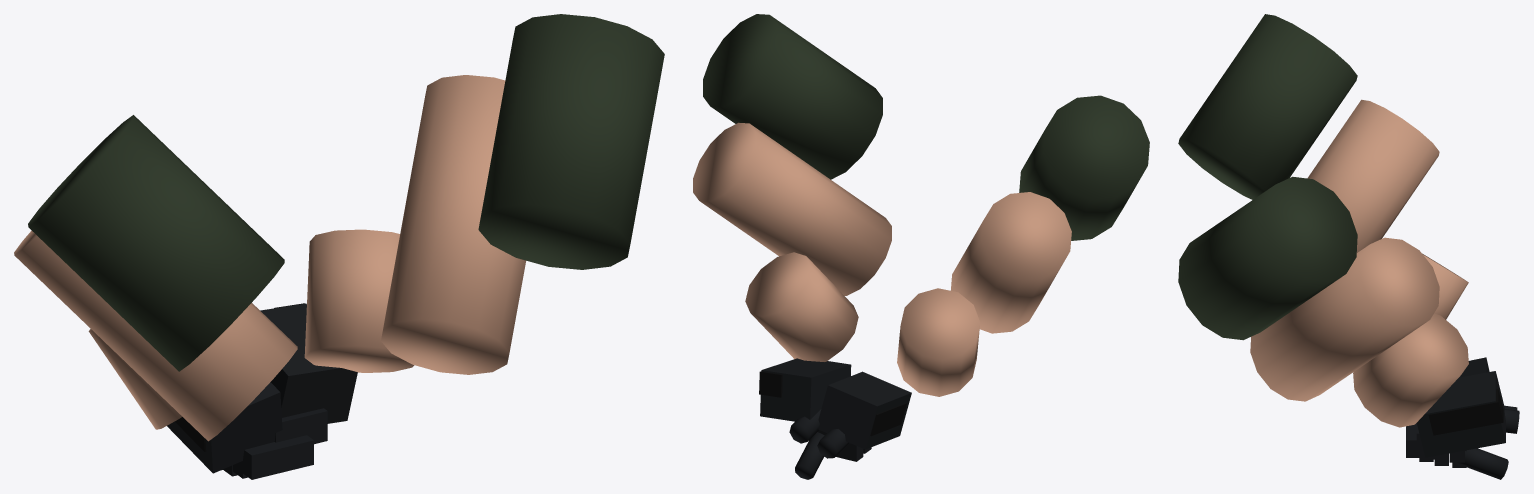
File: fps_arms.obj
The picture shows the model from 3 angles, left to right: view 1: azimuth 30°, elevation 25°; view 2: azimuth 150°, elevation 25°; view 3: azimuth 270°, elevation 25°; orthographic projection. The views are drawn at different scales.
Parts seen in each view (by area): view 1: FPS_CombatArms; view 2: FPS_CombatArms; view 3: FPS_CombatArms.
Boxes of the visible parts, x1,y1,x2,y2 form: FPS_CombatArms: [14, 14, 664, 479]; FPS_CombatArms: [693, 14, 1149, 479]; FPS_CombatArms: [1178, 14, 1519, 479].
Size of the model in its own units: 0.4805 by 0.3684 by 0.3103.
